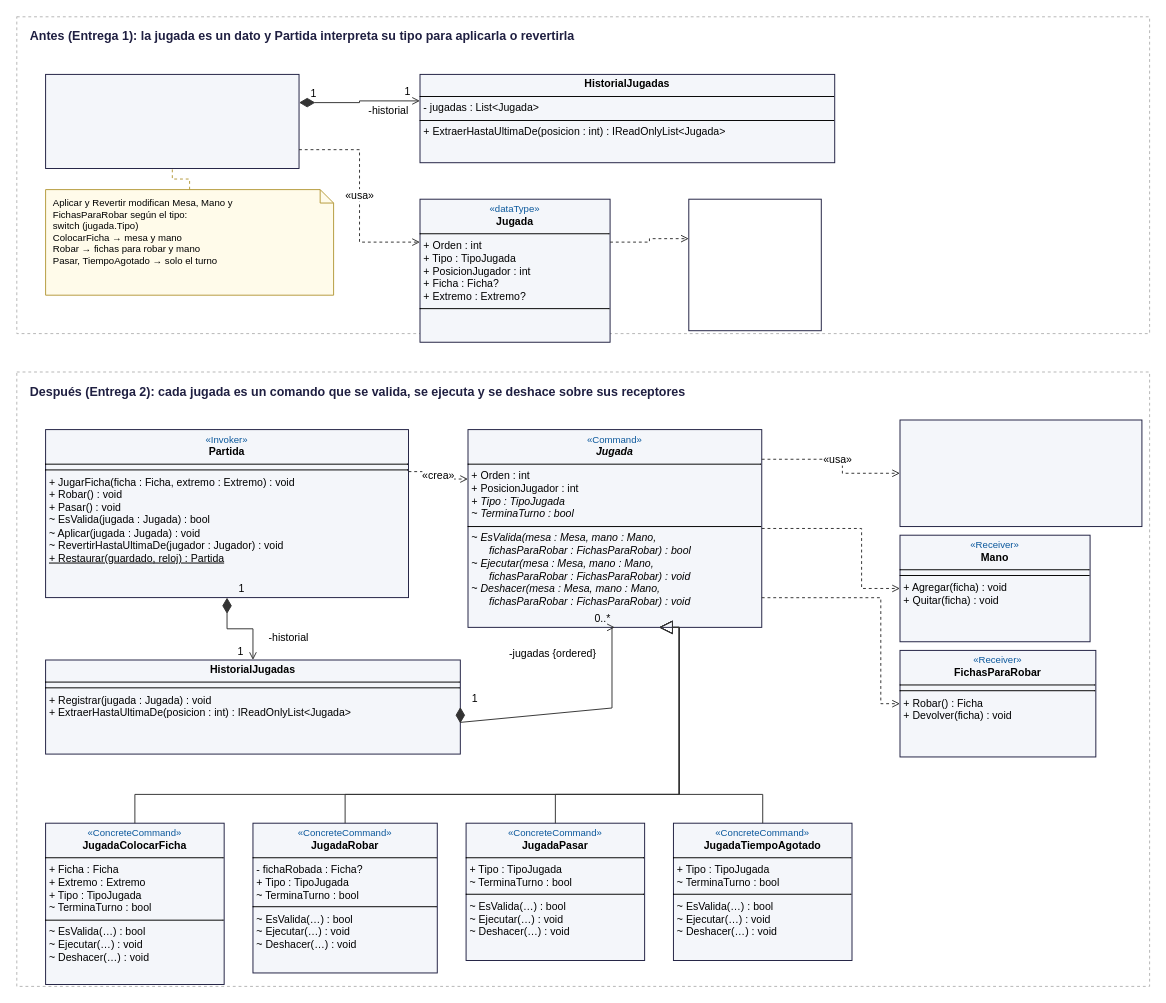
Some shapes in this 1166 by 1003 pixel diagram are drawn without their labels. The centre of each missing label's shape, as x and y in pixels:
"Partida - Aplicar(jugada : Jugada) : void - Revertir(jugada : Jugada) : void" belongs at point 172,120.
"«enumeration» TipoJugada ColocarFicha Robar Pasar TiempoAgotado" belongs at point 754,264.
"«Receiver» Mesa + Colocar(ficha, extremo) : void + RetirarDe(extremo) : Ficha" belongs at point 1020,473.
